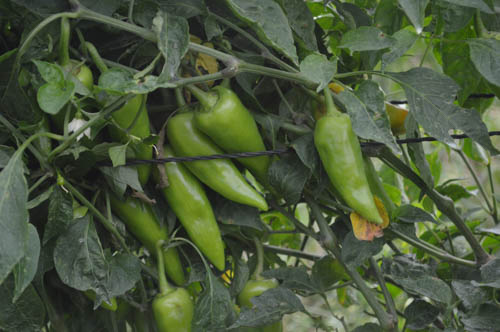ChiliPepper: (171, 114, 267, 213), (153, 148, 226, 271), (318, 116, 384, 229), (107, 187, 187, 280), (97, 77, 152, 183), (199, 97, 270, 173), (54, 65, 99, 140), (146, 294, 194, 332)
